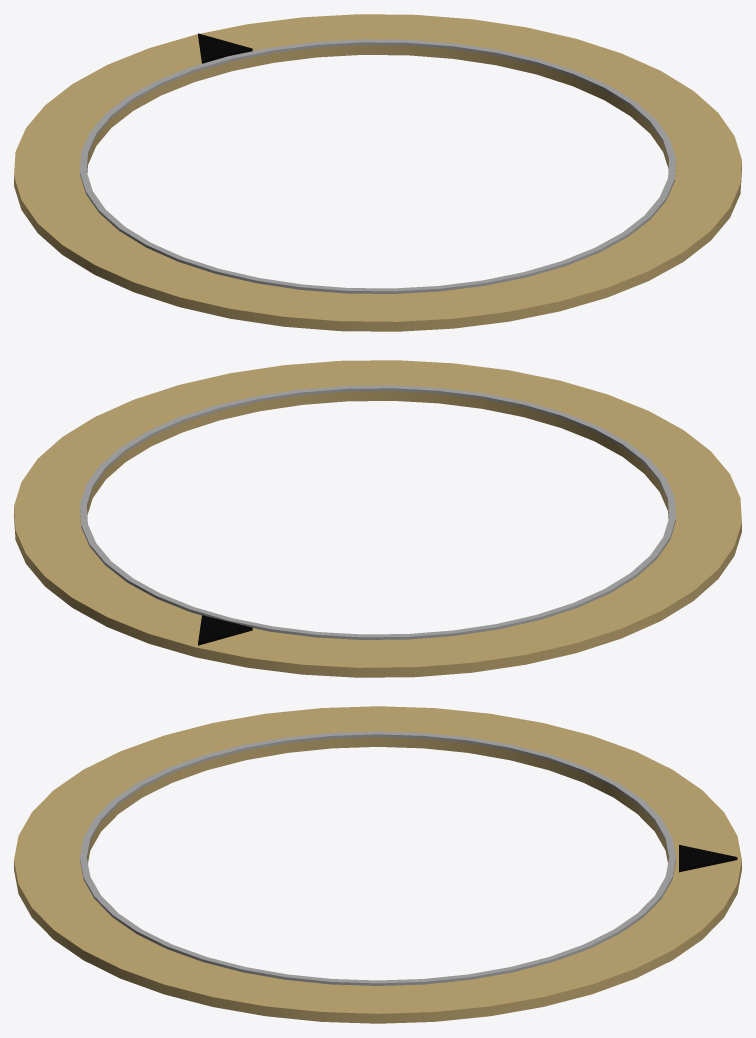
The model's file is Ring1.fbx.
The picture shows the model from 3 angles, top to bottom: view 1: azimuth 30°, elevation 25°; view 2: azimuth 150°, elevation 25°; view 3: azimuth 270°, elevation 25°; orthographic projection.
Visible parts, largest first — view 1: Ring1; view 2: Ring1; view 3: Ring1.
Part boxes in pixels (box(x1,y1,x2,y2)): Ring1: box(14, 14, 741, 331); Ring1: box(14, 360, 741, 677); Ring1: box(14, 706, 741, 1023).
Bounding box in the file's own units: 100 × 1.95 × 100.
